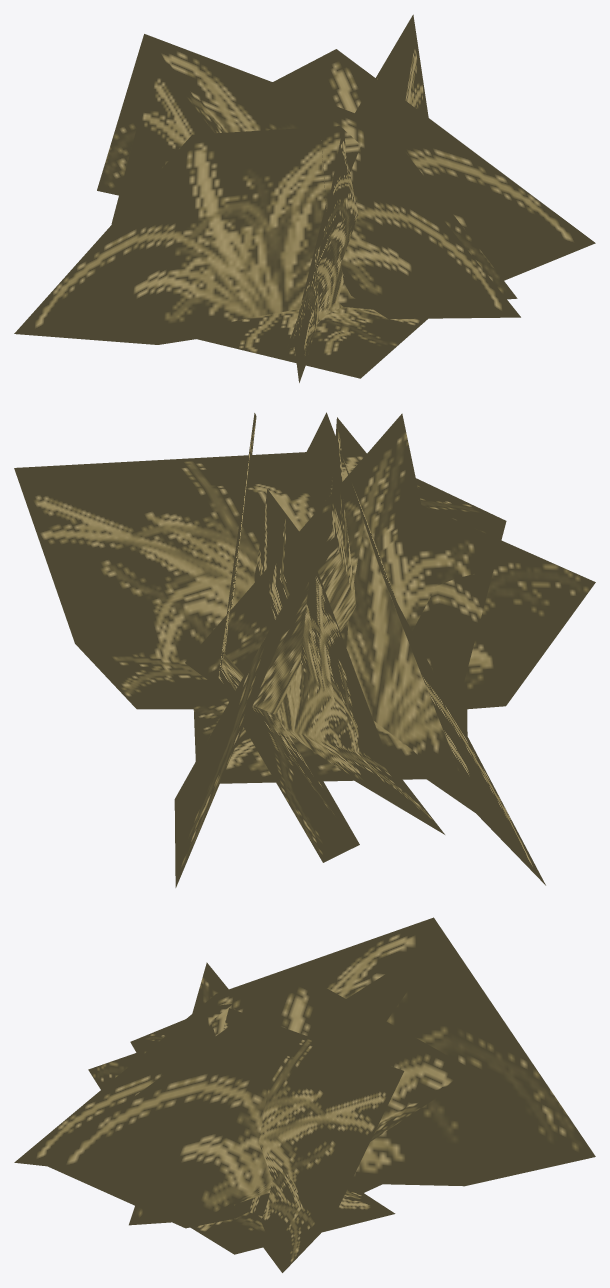
Rendered from ichu_01.glb.
3 renders of one model, top to bottom at view 1: azimuth 30°, elevation 25°; view 2: azimuth 150°, elevation 25°; view 3: azimuth 270°, elevation 25°, orthographic. The views are drawn at different scales.
Visible parts, largest first — view 1: Ichu; view 2: Ichu; view 3: Ichu.
Boxes of the visible parts, x1=… form: Ichu: x1=14, y1=14, x2=595, y2=382; Ichu: x1=14, y1=412, x2=595, y2=887; Ichu: x1=14, y1=917, x2=595, y2=1272.
Bounding box in the file's own units: 0.5158 × 0.34 × 0.6564.
Materials: 1 (1 with a texture image).
